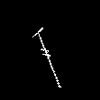treble_crochet: (35, 28, 60, 86)
